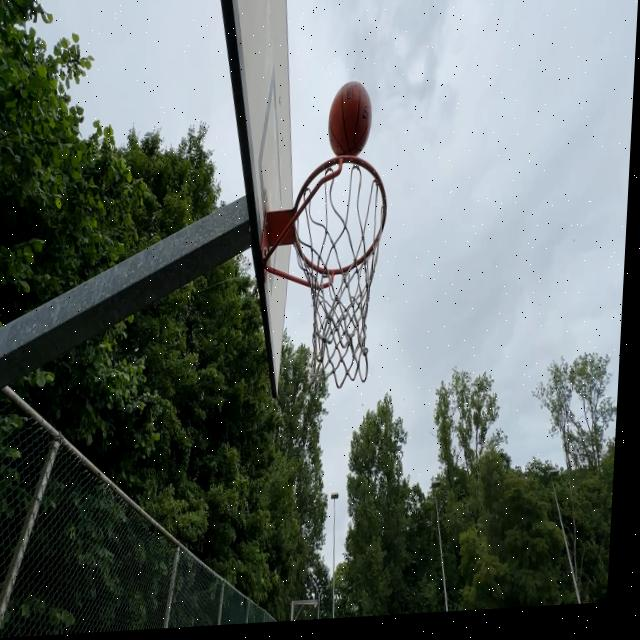rebound_hit: (327, 79, 374, 167)
